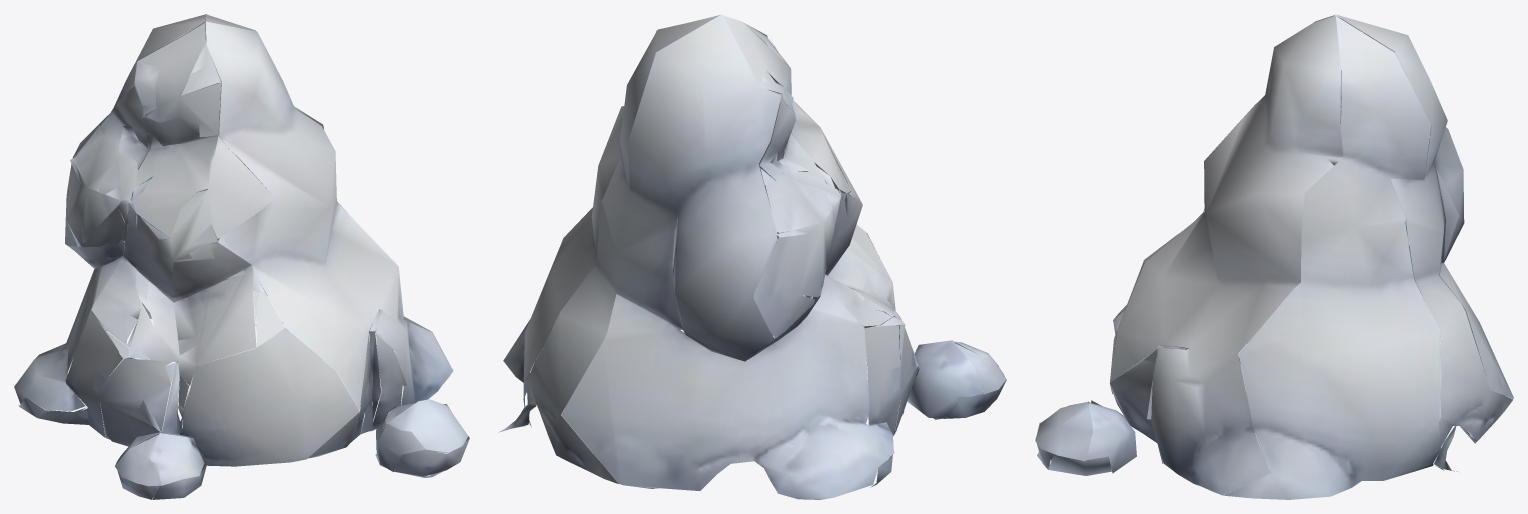
The model's file is snowpile_gen_d.glb.
3 renders of one model, left to right at view 1: azimuth 30°, elevation 25°; view 2: azimuth 150°, elevation 25°; view 3: azimuth 270°, elevation 25°, orthographic. The views are drawn at different scales.
Parts seen in each view (by area): view 1: snowpile_gen.003; view 2: snowpile_gen.003; view 3: snowpile_gen.003.
Part boxes in pixels (bbox=[...]): snowpile_gen.003: bbox=[14, 14, 469, 499]; snowpile_gen.003: bbox=[499, 14, 1006, 499]; snowpile_gen.003: bbox=[1035, 14, 1513, 499].
Bounding box in the file's own units: 1.54 × 1.5 × 1.64.
Materials: 1 (1 with a texture image).
